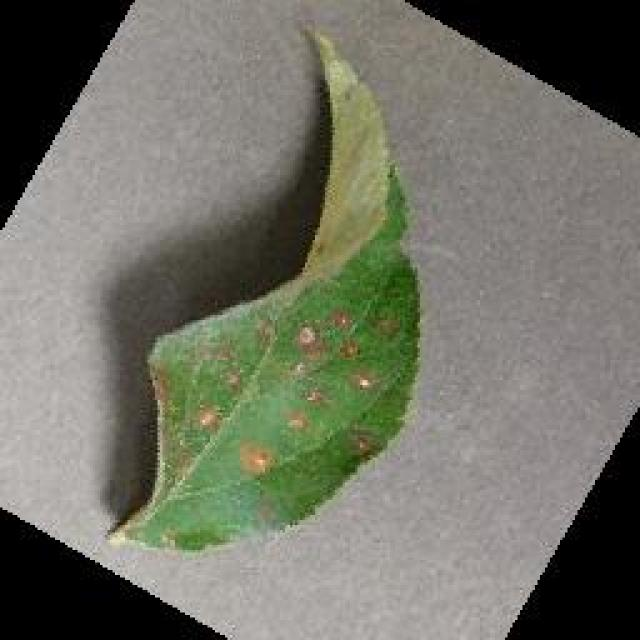apple rust disease: (102, 23, 422, 555)
